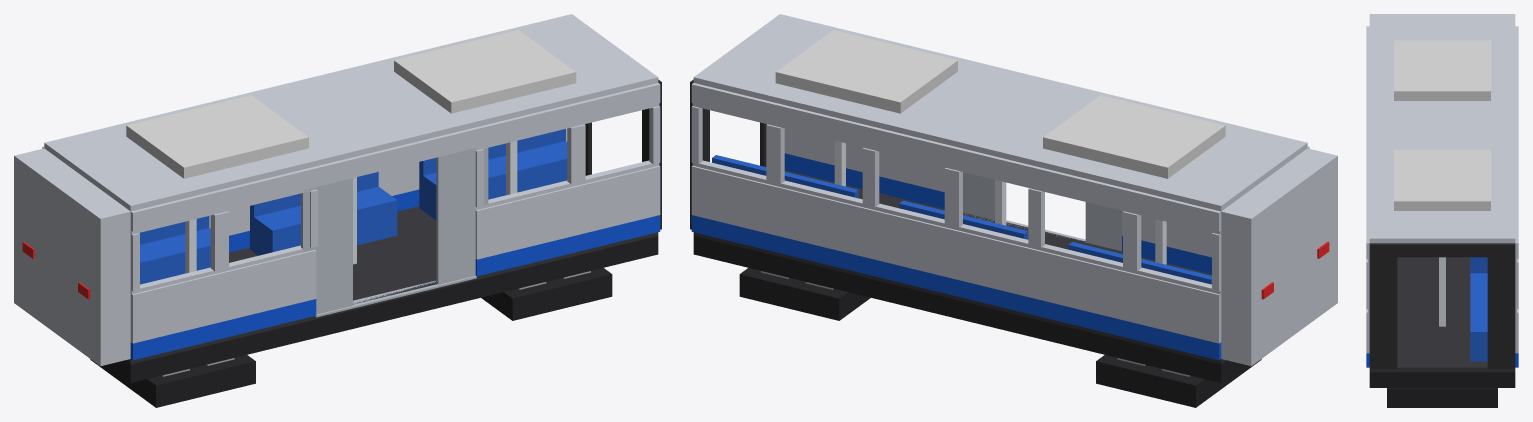
File: metro_wagon_rear_half_l1.obj
The picture shows the model from 3 angles, left to right: view 1: azimuth 30°, elevation 25°; view 2: azimuth 150°, elevation 25°; view 3: azimuth 270°, elevation 25°; orthographic projection. The views are drawn at different scales.
Size of the model in its own units: 3.16 by 1.26 by 0.88.
